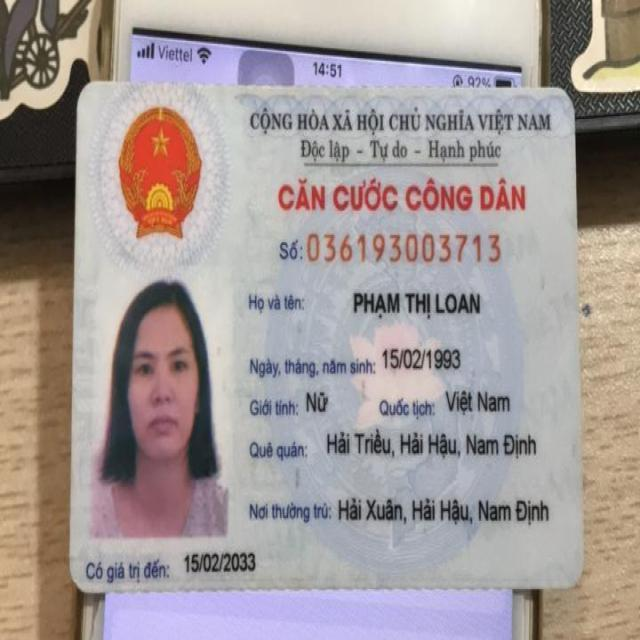bottom_left: (56, 556, 98, 610)
bottom_right: (553, 552, 595, 597)
image_person: (88, 270, 232, 536)
top_left: (65, 68, 112, 122)
top_right: (542, 77, 591, 126)
